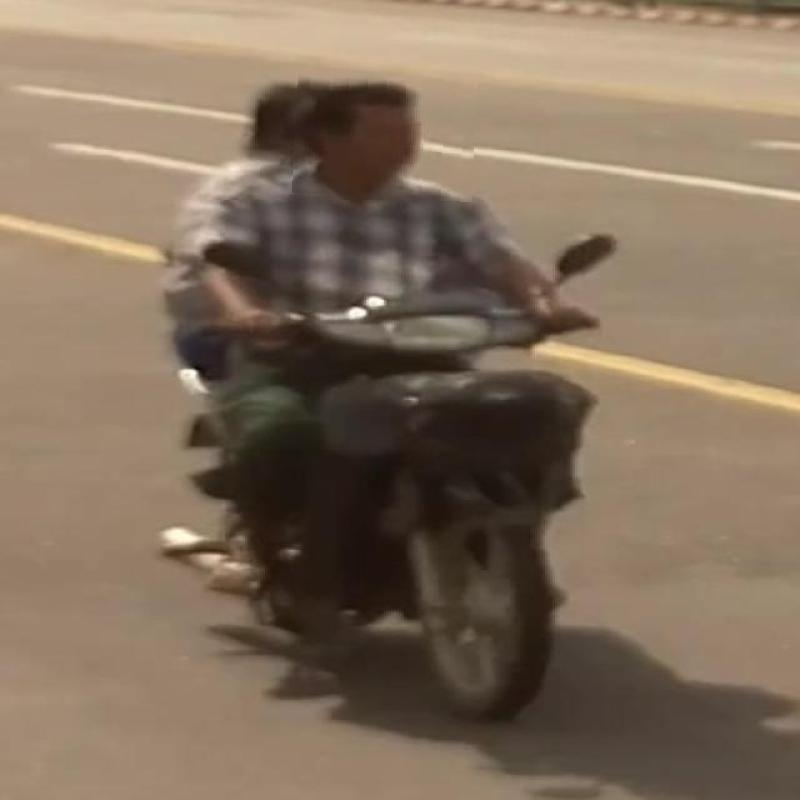nohelmet: (294, 70, 477, 200)
